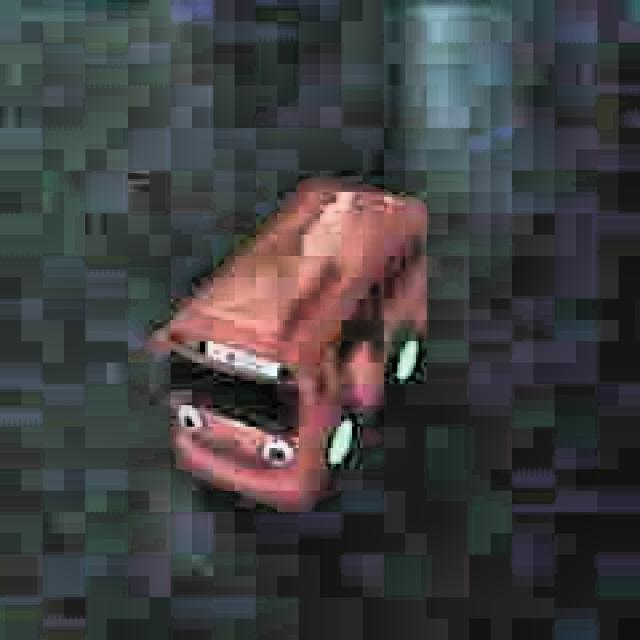bus: (145, 163, 445, 528)
